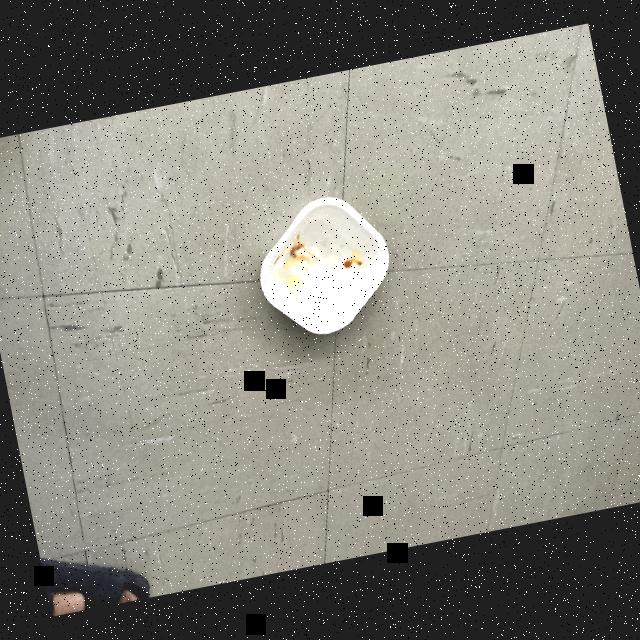cardboard_bowl: (235, 184, 408, 353)
